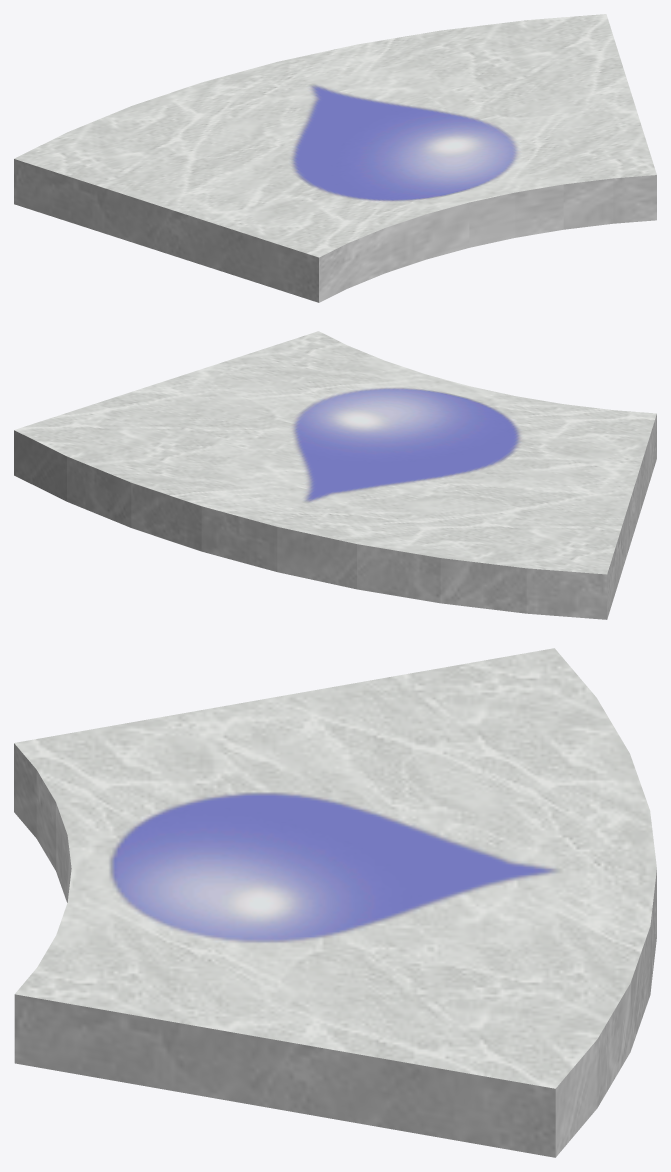
Rendered from water-tile.obj.
The picture shows the model from 3 angles, top to bottom: view 1: azimuth 30°, elevation 25°; view 2: azimuth 150°, elevation 25°; view 3: azimuth 270°, elevation 25°; orthographic projection. The views are drawn at different scales.
Visible parts, largest first — view 1: Cylinder.012_Mesh.003, Cylinder.012_Mesh.004; view 2: Cylinder.012_Mesh.003, Cylinder.012_Mesh.004; view 3: Cylinder.012_Mesh.003, Cylinder.012_Mesh.004.
Part boxes in pixels (x1,y1,x2,y2): Cylinder.012_Mesh.003: (14, 14, 656, 257); Cylinder.012_Mesh.004: (14, 159, 656, 302); Cylinder.012_Mesh.003: (14, 331, 656, 574); Cylinder.012_Mesh.004: (14, 414, 656, 619); Cylinder.012_Mesh.003: (14, 648, 656, 1088); Cylinder.012_Mesh.004: (14, 743, 656, 1157).
Bounding box in the file's own units: 3.79 × 0.277 × 2.34.
